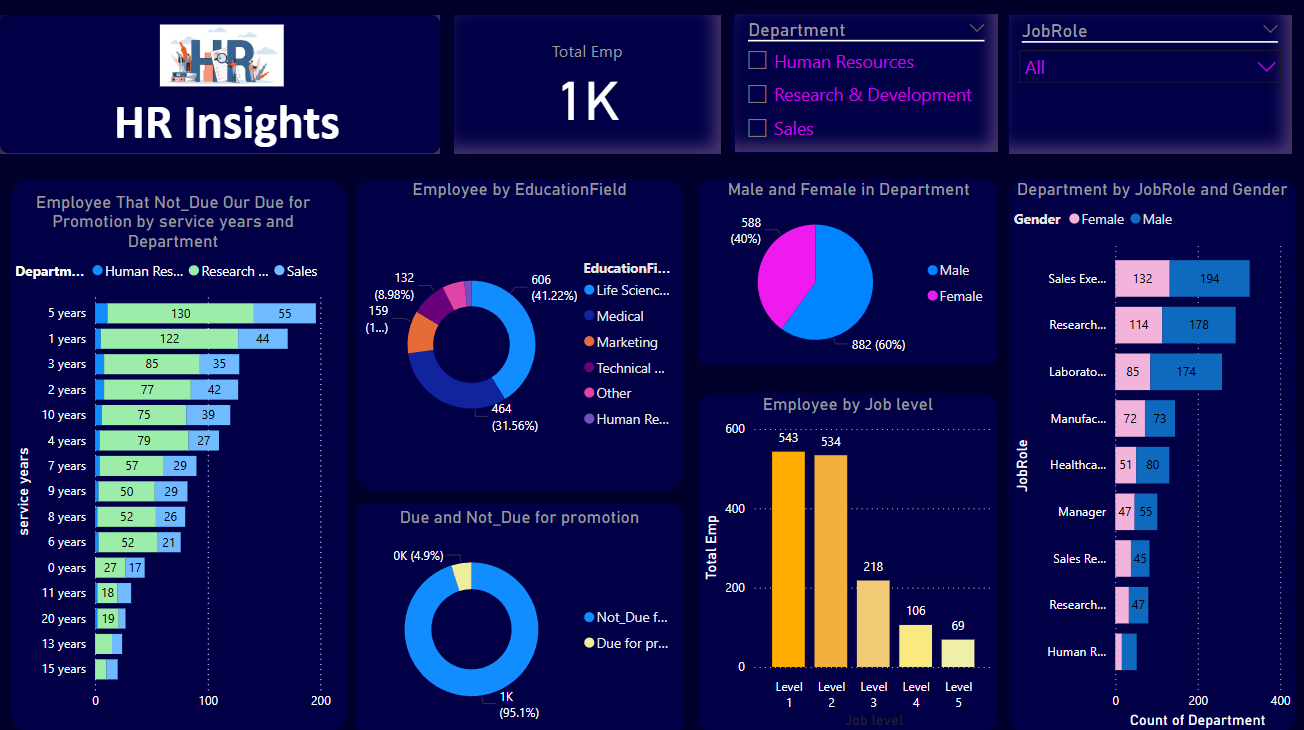

The dashboard page shown, as its layout file describes it:
{"tool":"powerbi","page":{"name":"Page 1","canvas":[1280,720],"ordinal":0},"visuals":[{"type":"shape","box":[989.4,13.7,277.2,137.2],"z":0},{"type":"shape","box":[717.7,13.7,260.7,137.2],"z":1000},{"type":"shape","box":[446,15.1,262.1,135.8],"z":2000},{"type":"shape","box":[0,14.7,432.2,135.7],"z":3000},{"type":"shape","box":[10.3,175.5,330.4,544.3],"z":4000},{"type":"shape","box":[348.1,175.5,323,306.8],"z":5000},{"type":"shape","box":[348.1,492.6,323,227.1],"z":6000},{"type":"shape","box":[684.4,175.5,295,184.4],"z":7000},{"type":"shape","box":[989.7,175.5,281.7,544.3],"z":8000},{"type":"shape","box":[684.4,385,295,334.8],"z":9000},{"type":"textbox","box":[0,84.1,445.4,138.6],"z":10000},{"type":"image","box":[151.9,2.9,131.3,103.2],"z":11000},{"type":"cardVisual","fields":{"Data":["All Measures.Total Emp"]},"box":[445.4,14.7,262.5,137.2],"z":12000},{"type":"pieChart","title":"Male and Female in Department","fields":{"Y":["All Measures.Male","All Measures.Female"]},"box":[687.3,175.5,292,184.4],"z":13000},{"type":"donutChart","title":" Due and Not_Due for promotion","fields":{"Y":["All Measures.Not_Due for Promotion","All Measures.Due for promotion"]},"box":[348.1,497.1,323,222.7],"z":14000},{"type":"barChart","title":" Employee That Not_Due Our Due for Promotion by service years and Department","fields":{"Category":["HR Analytics Data.service years"],"Y":["All Measures.Total Emp"],"Series":["HR Analytics Data.Department"]},"box":[10.3,187.3,320.1,532.5],"z":15000},{"type":"clusteredColumnChart","title":"Employee by Job level","fields":{"Y":["All Measures.Total Emp"],"Category":["HR Analytics Data.Job level"]},"box":[684.4,386.4,295,333.3],"z":16000},{"type":"barChart","title":" Department by JobRole and Gender","fields":{"Category":["HR Analytics Data.JobRole"],"Series":["HR Analytics Data.Gender"],"Y":["CountNonNull(HR Analytics Data.Department)"]},"box":[989.7,175.5,281.7,544.3],"z":17000},{"type":"donutChart","title":" Employee by EducationField","fields":{"Category":["HR Analytics Data.EducationField"],"Y":["All Measures.Total Emp"]},"box":[348.1,175.5,323,306.8],"z":18000},{"type":"slicer","fields":{"Values":["HR Analytics Data.JobRole"]},"box":[989.7,14.7,277.3,135.7],"z":19000},{"type":"slicer","fields":{"Values":["HR Analytics Data.Department"]},"box":[721.3,13.3,258.1,135.7],"z":20000}]}

Visuals, with their boxes in screenshot pixels (x1, y1, x2, y2), scaled from the page's 1280x720 canvas onto the 1304x730 screenshot:
shape: {"x1": 1008, "y1": 14, "x2": 1290, "y2": 153}
shape: {"x1": 731, "y1": 14, "x2": 997, "y2": 153}
shape: {"x1": 454, "y1": 15, "x2": 721, "y2": 153}
shape: {"x1": 0, "y1": 15, "x2": 440, "y2": 152}
shape: {"x1": 10, "y1": 178, "x2": 347, "y2": 729}
shape: {"x1": 355, "y1": 178, "x2": 684, "y2": 489}
shape: {"x1": 355, "y1": 499, "x2": 684, "y2": 729}
shape: {"x1": 697, "y1": 178, "x2": 998, "y2": 365}
shape: {"x1": 1008, "y1": 178, "x2": 1295, "y2": 729}
shape: {"x1": 697, "y1": 390, "x2": 998, "y2": 729}
textbox: {"x1": 0, "y1": 85, "x2": 454, "y2": 226}
image: {"x1": 155, "y1": 3, "x2": 289, "y2": 108}
cardVisual - All Measures.Total Emp: {"x1": 454, "y1": 15, "x2": 721, "y2": 154}
"Male and Female in Department" pieChart: {"x1": 700, "y1": 178, "x2": 998, "y2": 365}
" Due and Not_Due for promotion" donutChart: {"x1": 355, "y1": 504, "x2": 684, "y2": 729}
" Employee That Not_Due Our Due for Promotion by service years and Department" barChart: {"x1": 10, "y1": 190, "x2": 337, "y2": 729}
"Employee by Job level" clusteredColumnChart: {"x1": 697, "y1": 392, "x2": 998, "y2": 729}
" Department by JobRole and Gender" barChart: {"x1": 1008, "y1": 178, "x2": 1295, "y2": 729}
" Employee by EducationField" donutChart: {"x1": 355, "y1": 178, "x2": 684, "y2": 489}
slicer - HR Analytics Data.JobRole: {"x1": 1008, "y1": 15, "x2": 1291, "y2": 152}
slicer - HR Analytics Data.Department: {"x1": 735, "y1": 13, "x2": 998, "y2": 151}
